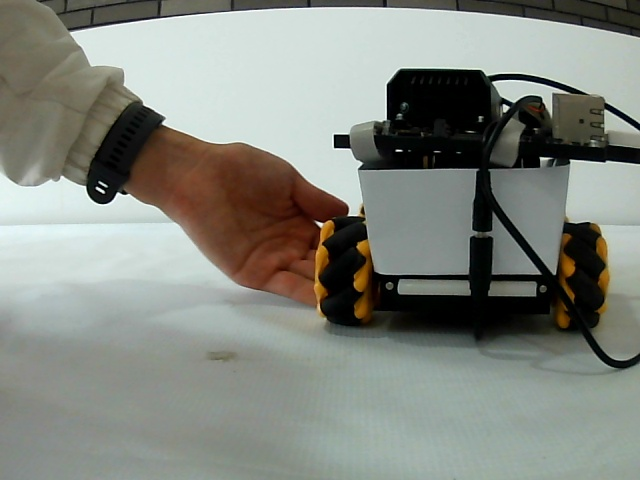car: (314, 65, 611, 327)
paper: (368, 170, 552, 273)
